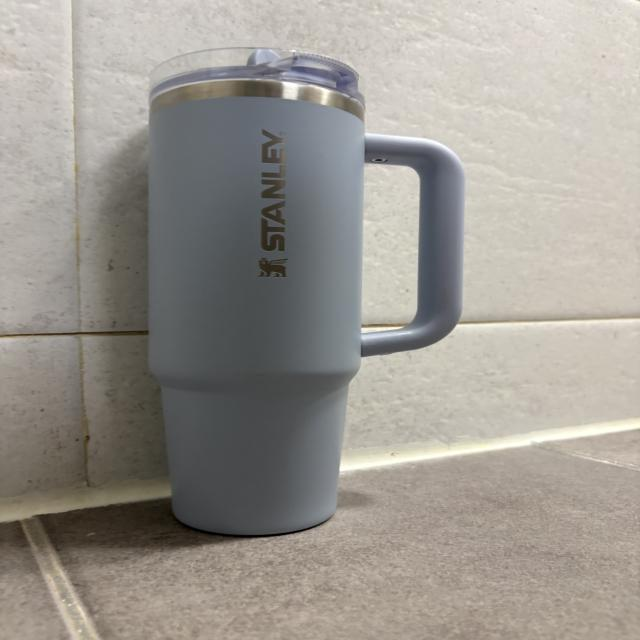waterbottle: (148, 47, 463, 537)
